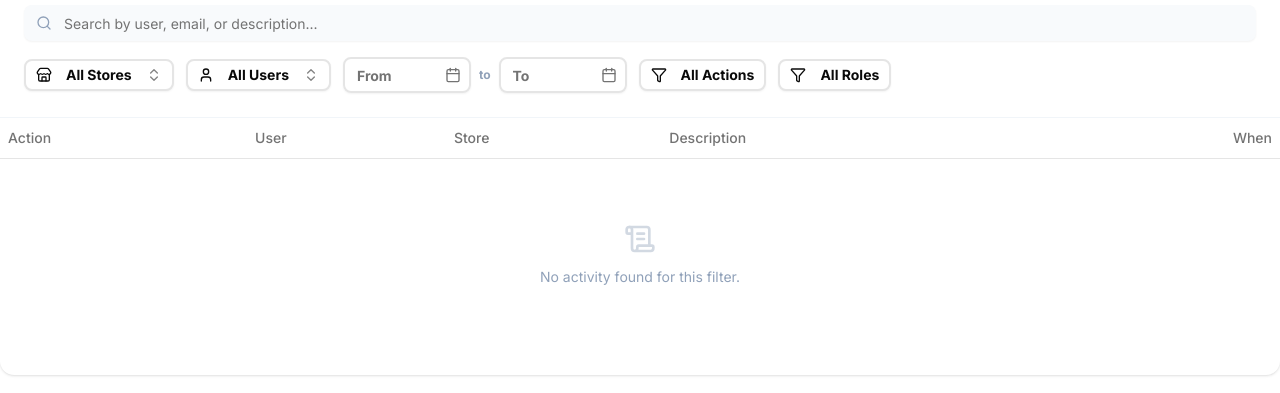
Activity page actor-role filter › does not duplicate a built-in role slug already covered by useAdminRoles
Click the button "All Roles" at (835, 75), box [778, 59, 891, 91]
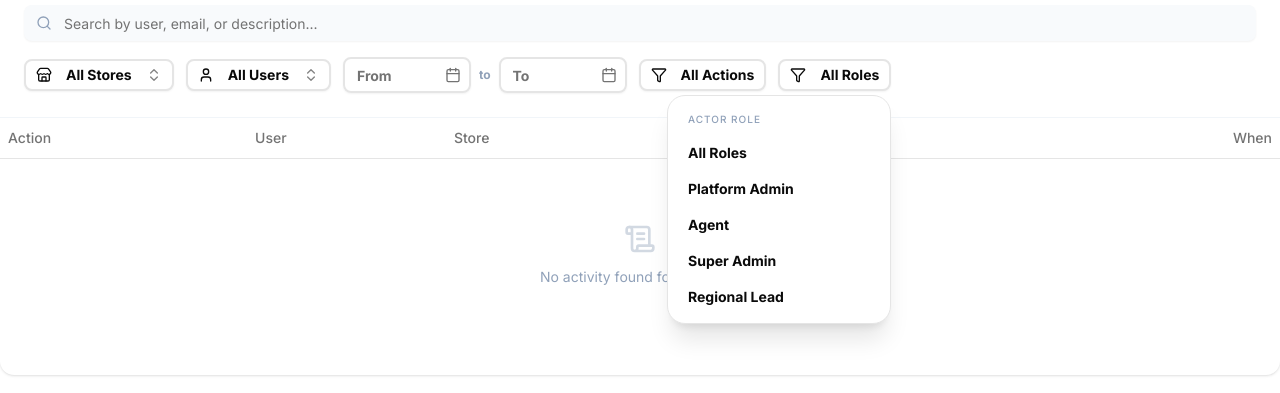
Expected: the number of menu items "Super Admin" is 1, [688, 252, 776, 269]
